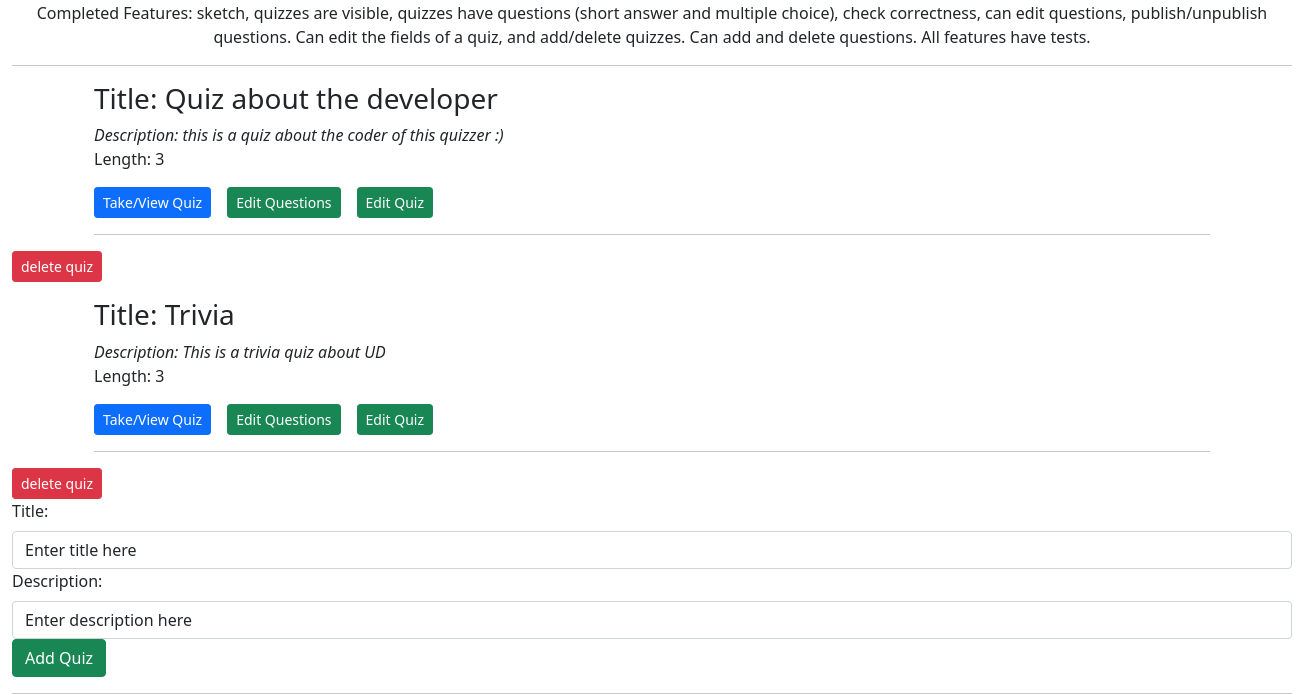
Scenario: Quizzer Tests › Quizzes have two types of questions and can check correctness
(page scrolled)
Click the button "Take/View Quiz" below "Quiz about the developer".
click(153, 203)  # box left=94, top=187, right=211, bottom=218
(page scrolled)
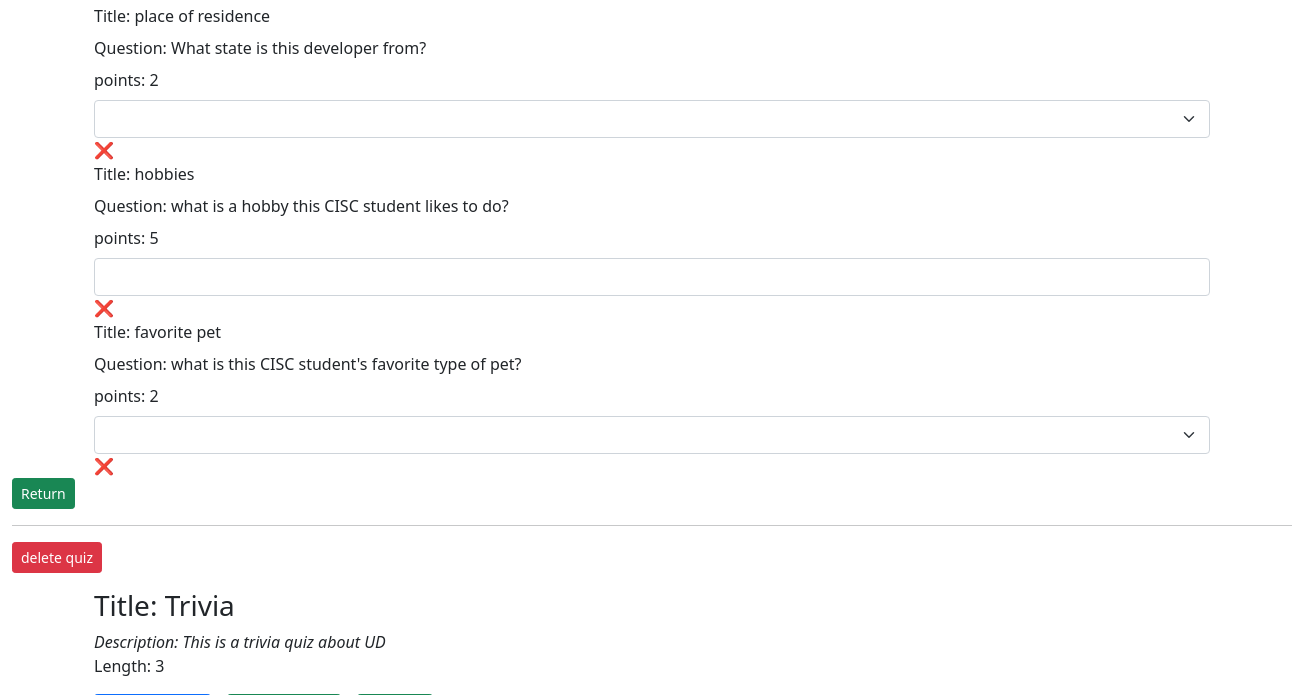
Type "swimming" into the field.
click(652, 277); type("swimming")  # box left=94, top=258, right=1210, bottom=296
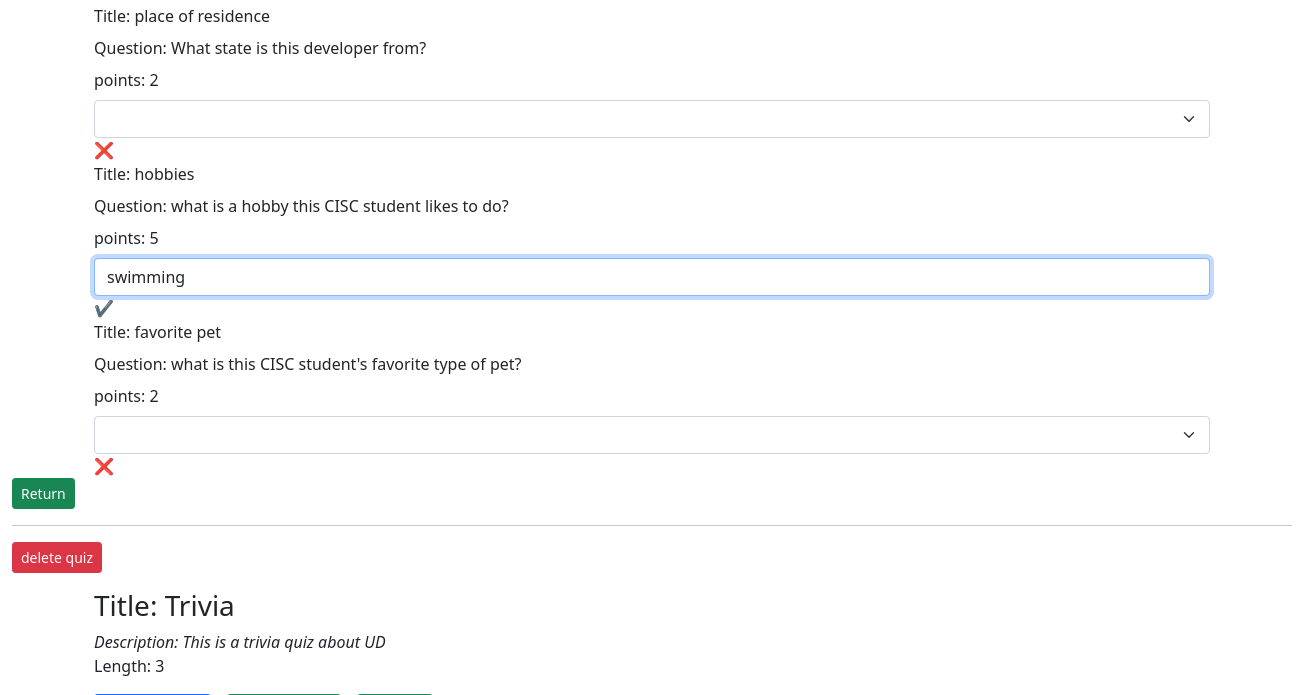
Now the text "✔️" is shown, box left=94, top=297, right=114, bottom=319
